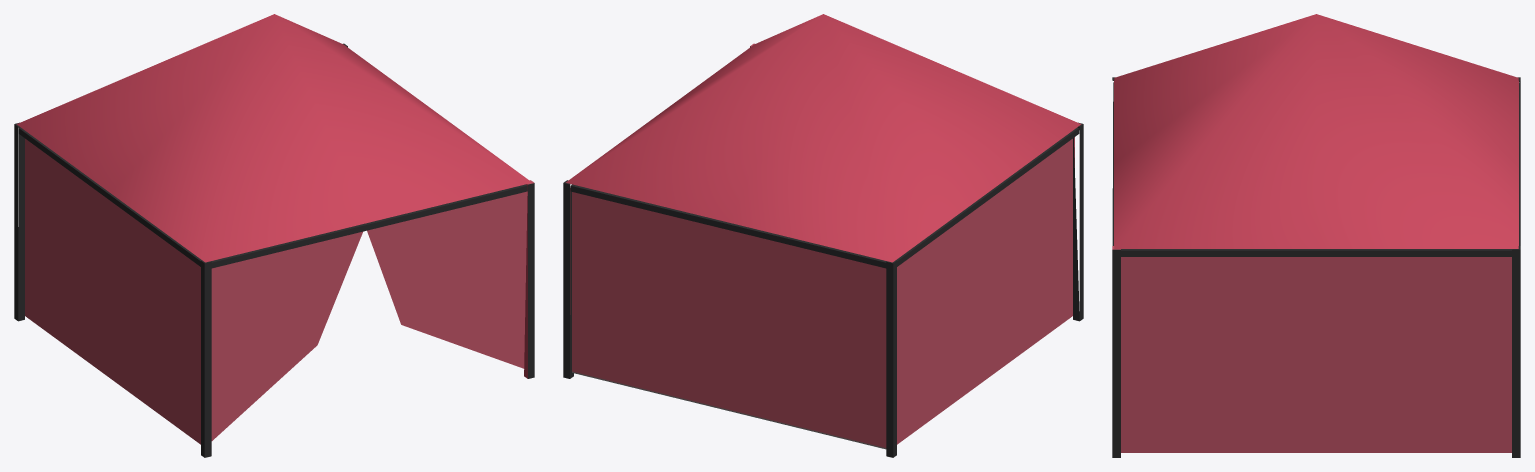
The model's file is Tent.glb.
The picture shows the model from 3 angles, left to right: view 1: azimuth 30°, elevation 25°; view 2: azimuth 150°, elevation 25°; view 3: azimuth 270°, elevation 25°; orthographic projection. The views are drawn at different scales.
Visible parts, largest first — view 1: Canopy_4; view 2: Canopy_4; view 3: Canopy_4.
Boxes of the visible parts, x1,y1,x2,y2 form: Canopy_4: (14, 14, 534, 457); Canopy_4: (563, 14, 1083, 457); Canopy_4: (1112, 14, 1520, 457).
Size of the model in its own units: 817 by 790 by 817.
Materials: 1 (1 with a texture image).
